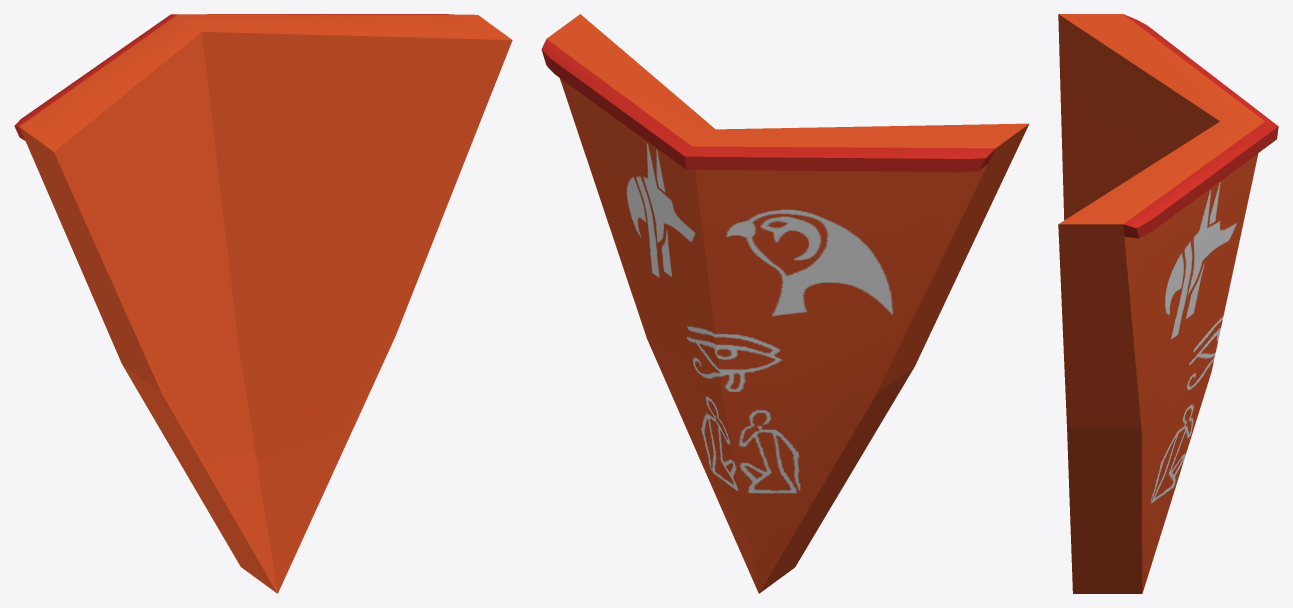
File: FireHolder.fbx
3 views of the same model, side by side, from view 1: azimuth 30°, elevation 25°; view 2: azimuth 150°, elevation 25°; view 3: azimuth 270°, elevation 25° (orthographic). The views are drawn at different scales.
Parts seen in each view (by area): view 1: pCube3; view 2: pCube3; view 3: pCube3.
Part boxes in pixels (x1,y1,x2,y2): pCube3: (14,14,512,593); pCube3: (541,14,1028,593); pCube3: (1058,14,1278,593).
Bounding box in the file's own units: 2.87 × 3.02 × 1.27.
Materials: 2 (1 with a texture image).
